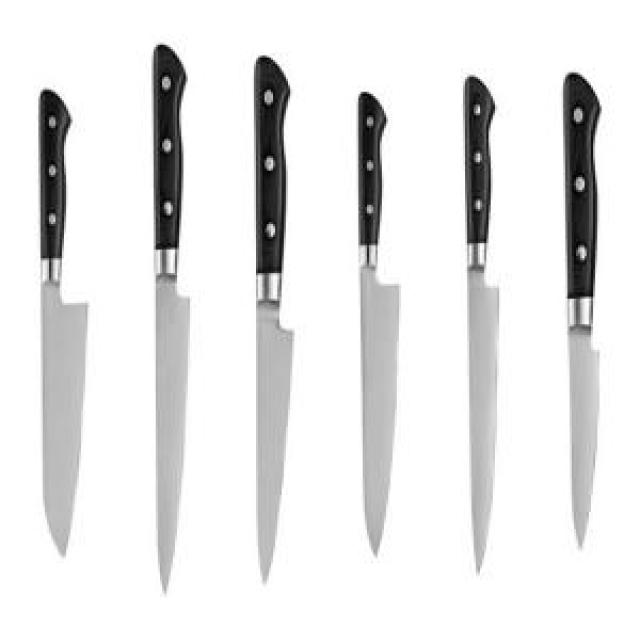knife: (150, 42, 198, 600), (38, 85, 94, 559), (248, 56, 296, 586), (458, 77, 504, 579), (354, 92, 403, 561), (563, 75, 606, 558)
